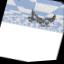drone: (26, 8, 57, 31)
